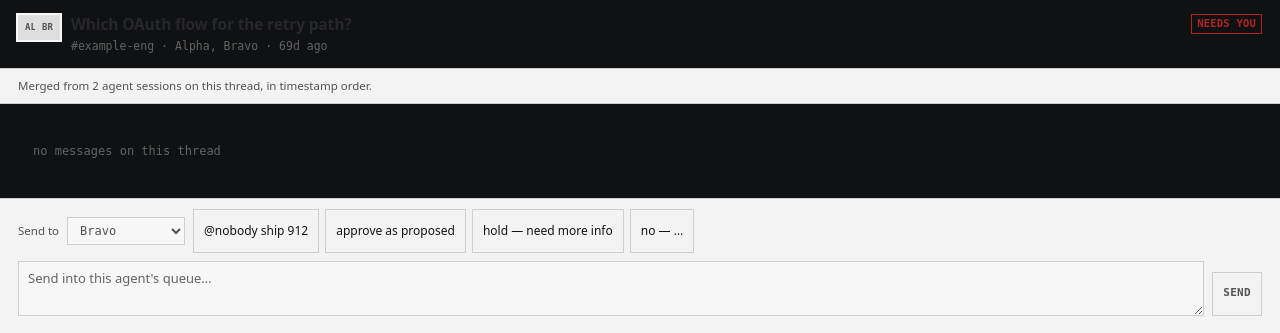
Test: prefill chips set the box and nothing else › a handle nobody answers to leaves the selector alone
The width and height of the screenshot is (1280, 333).
Click the button "@nobody ship 912": (256,231) [193,209,319,253]
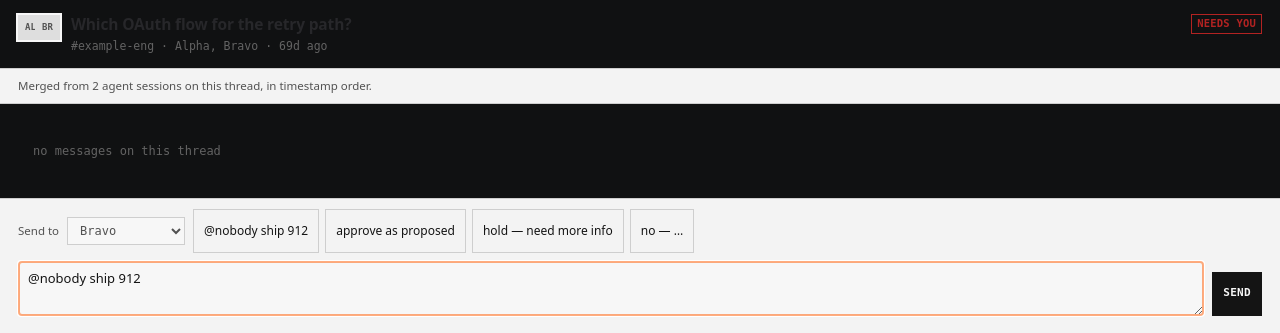
Expected: the dropdown labelled "Send to" shows "Bravo", [67,217,185,245]
Now the text box named "Message text" holds "@nobody ship 912", box [18,261,1204,316]
